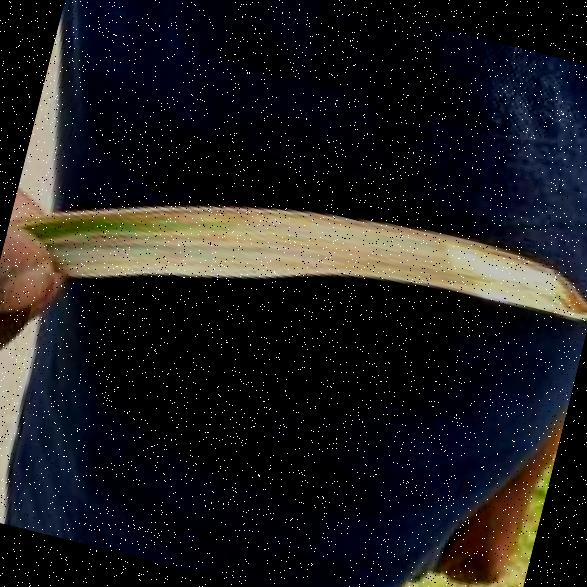Bacteria_Leaf_Blight: (98, 144, 587, 331)
